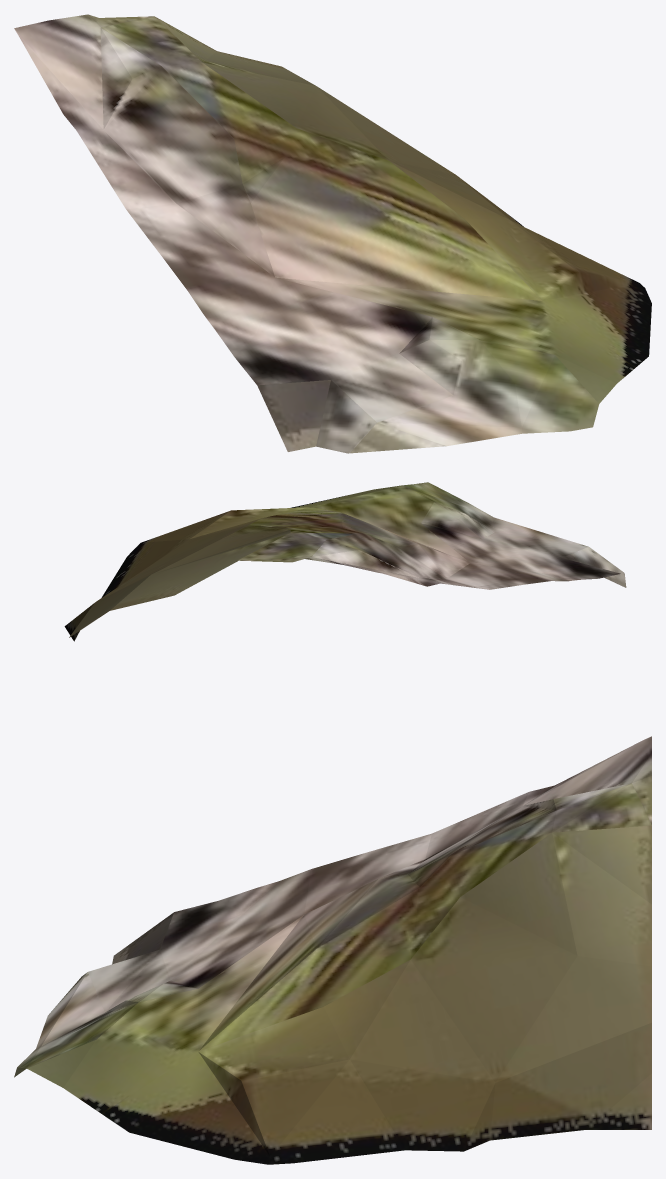
3 renders of one model, top to bottom at view 1: azimuth 30°, elevation 25°; view 2: azimuth 150°, elevation 25°; view 3: azimuth 270°, elevation 25°, orthographic.
Size of the model in its own units: 2.06 by 1.01 by 2.66.
1 material, 1 textured.
